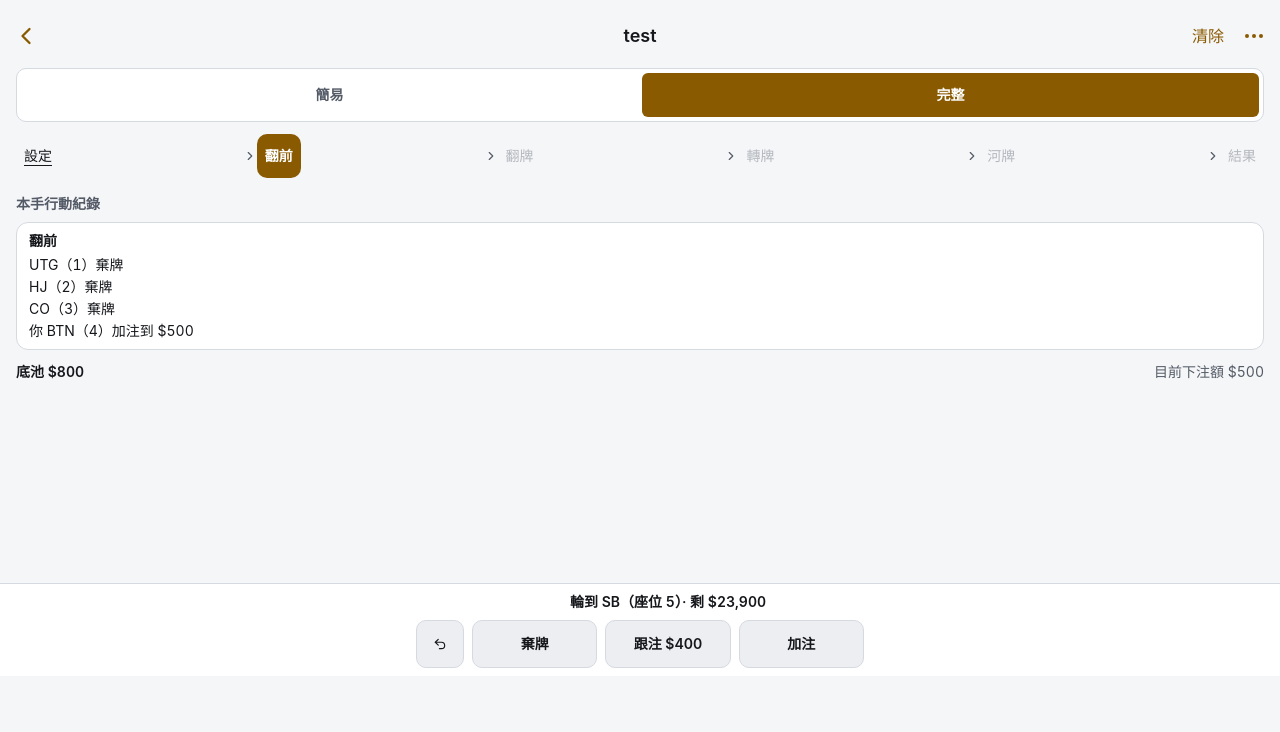
Test case: 5.3 自動捲動：HandForm 呼叫 revealLatest 的時機與參數 › 5.3 復原上一步後：top 為復原後的最後一行，bottom 為底池那一行
Click the button named "復原上一步".
click(440, 644)  # box [416,620,464,668]
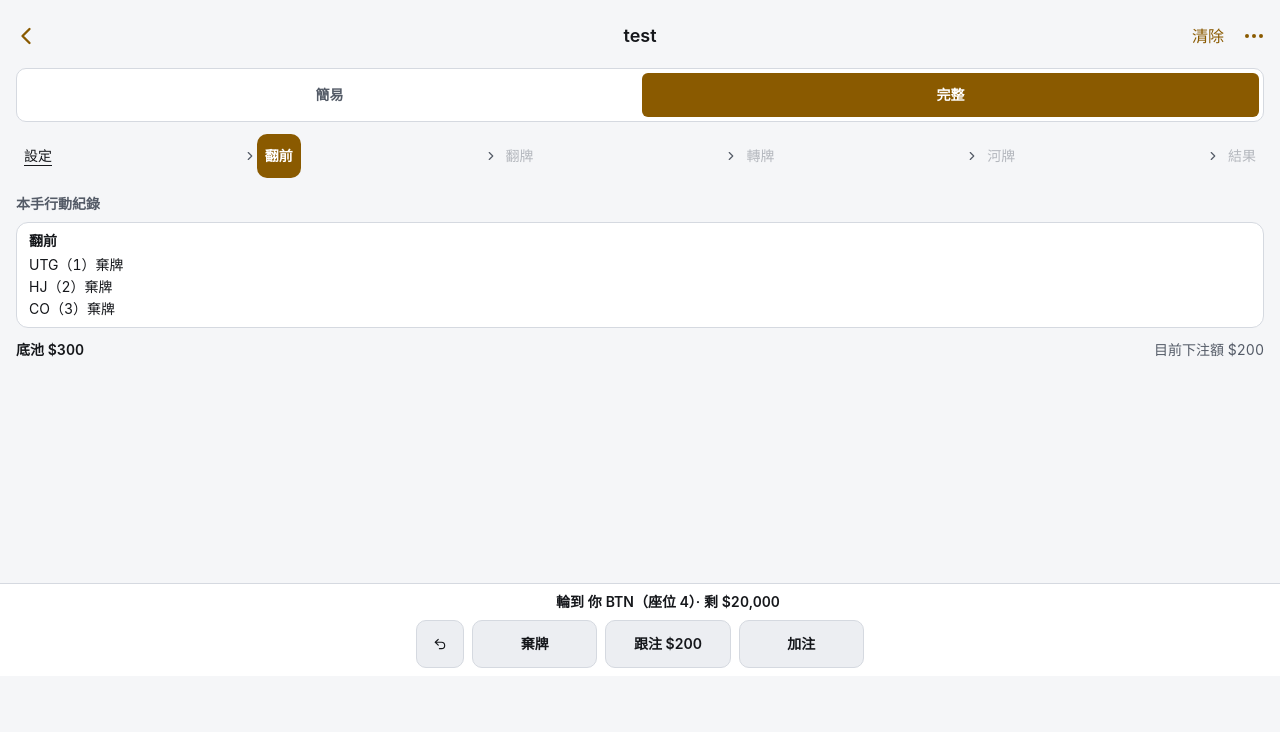
Result: the number of list items with test id "log-line" is 3 at [29,256,124,273]; [29,278,112,295]; [29,300,115,317]
